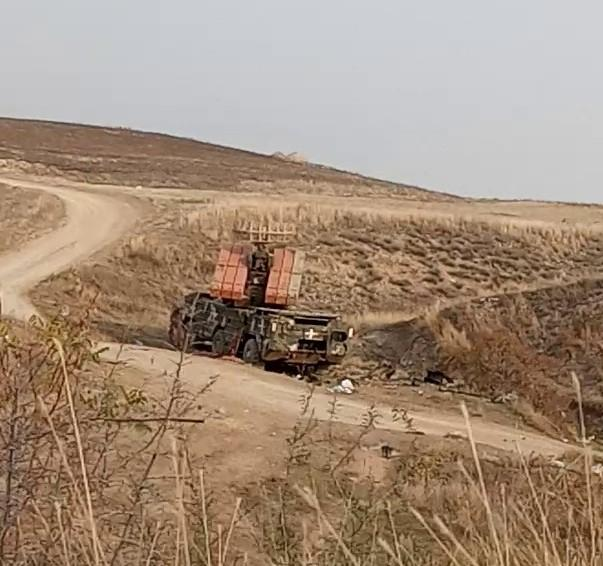MIL_SAM_TEL: (159, 212, 361, 384)
